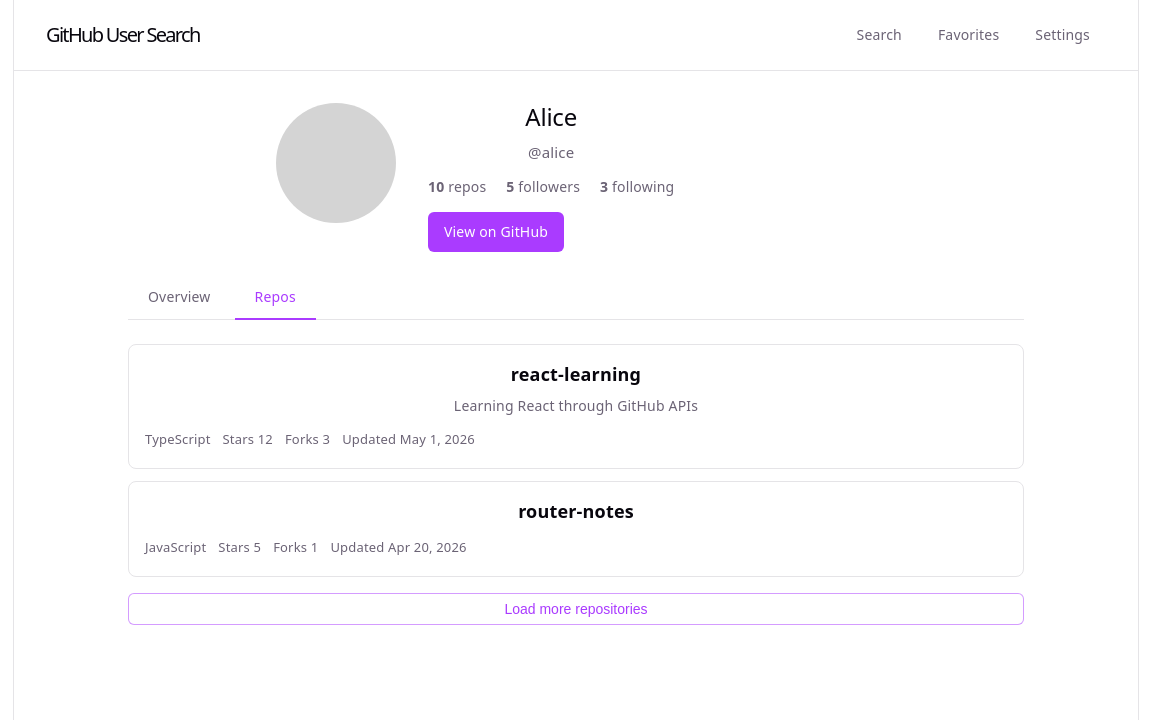
Test: user detail route boundaries › loads the next repository page from the repos child route
Expected: the link "react-learning" is shown, x1=511 y1=362 x2=641 y2=386
Step 1. Click the button "Load more repositories" → (576, 609), box x1=128 y1=593 x2=1024 y2=625
(page scrolled)
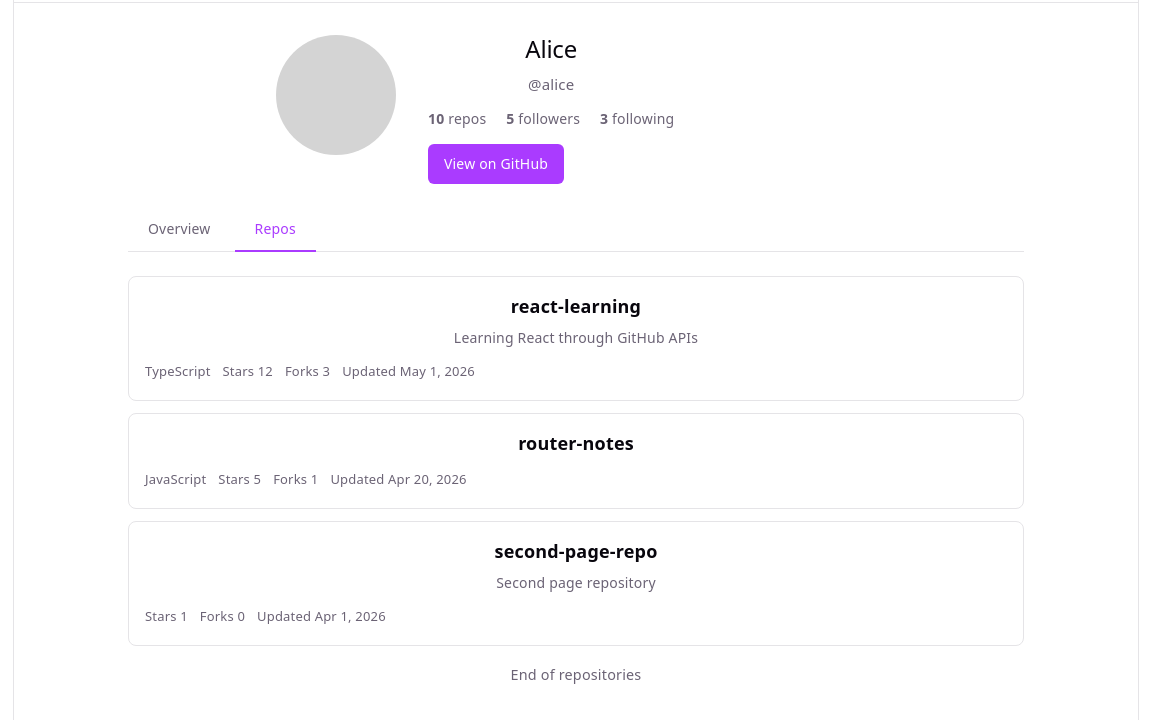
Now the link "second-page-repo" is shown, box x1=494 y1=539 x2=658 y2=563
Now the text "End of repositories" is shown, box x1=511 y1=665 x2=641 y2=684
